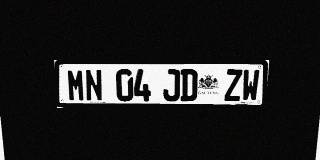0: (116, 69, 133, 101)
4: (133, 69, 151, 101)
D: (180, 69, 198, 101)
J: (163, 69, 180, 101)
M: (67, 69, 85, 101)
N: (84, 69, 103, 101)
W: (241, 69, 260, 101)
Z: (224, 69, 242, 101)
